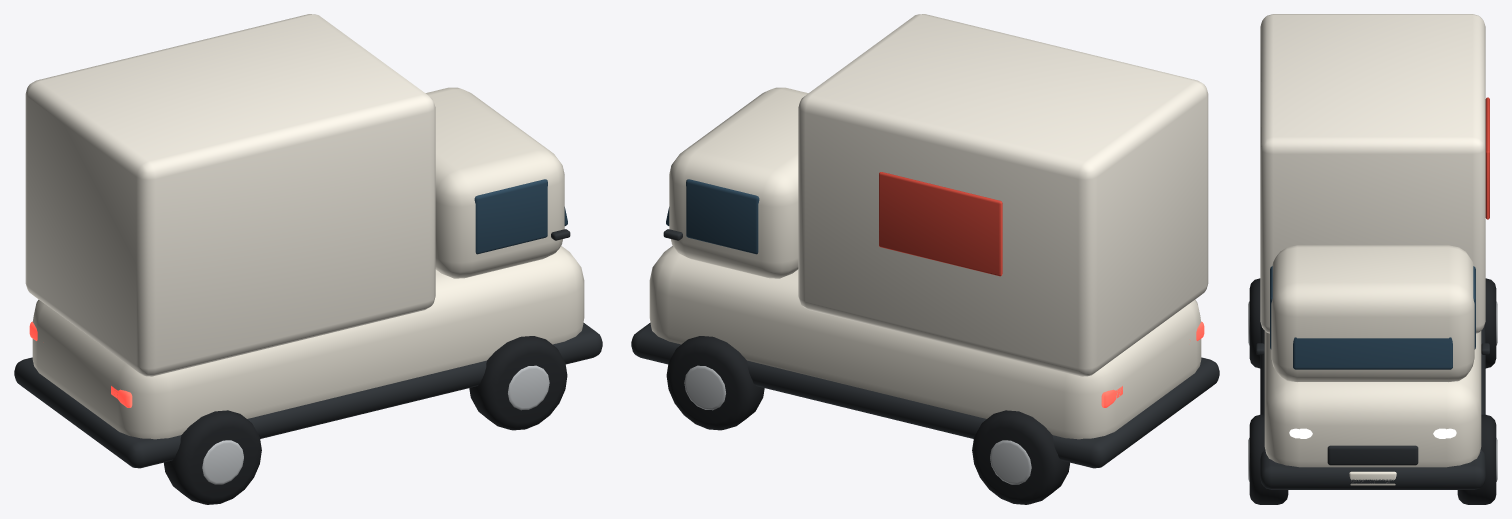
The model's file is car_truck.glb.
3 renders of one model, left to right at view 1: azimuth 30°, elevation 25°; view 2: azimuth 150°, elevation 25°; view 3: azimuth 270°, elevation 25°, orthographic. The views are drawn at different scales.
Parts seen in each view (by area): view 1: car_truck; view 2: car_truck; view 3: car_truck.
Boxes of the visible parts, left/top/right/bottom form: car_truck: left=14, top=14, right=602, bottom=504; car_truck: left=631, top=14, right=1219, bottom=504; car_truck: left=1248, top=14, right=1497, bottom=504.
Size of the model in its own units: 2.31 by 1.64 by 1.15.
3 materials, 3 textured.
